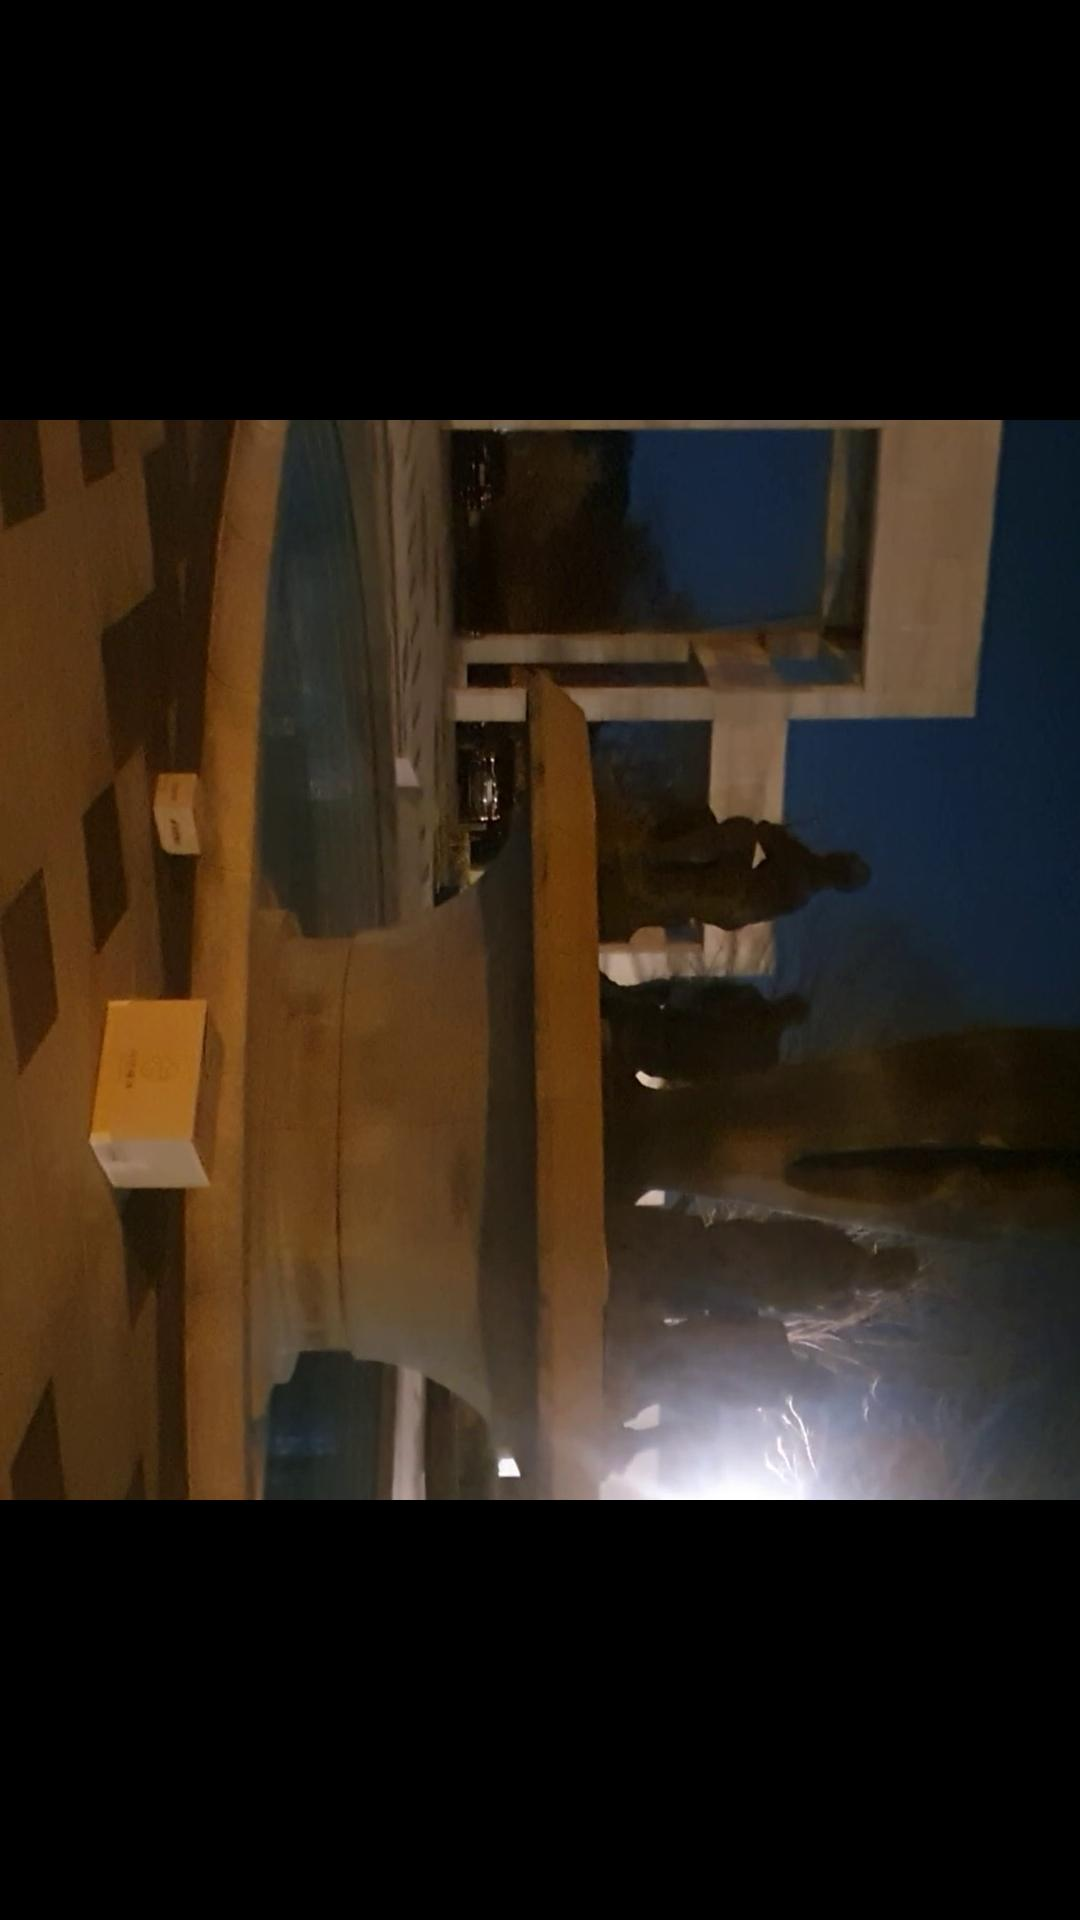Box: (37, 951, 247, 1242), (115, 766, 243, 895)
